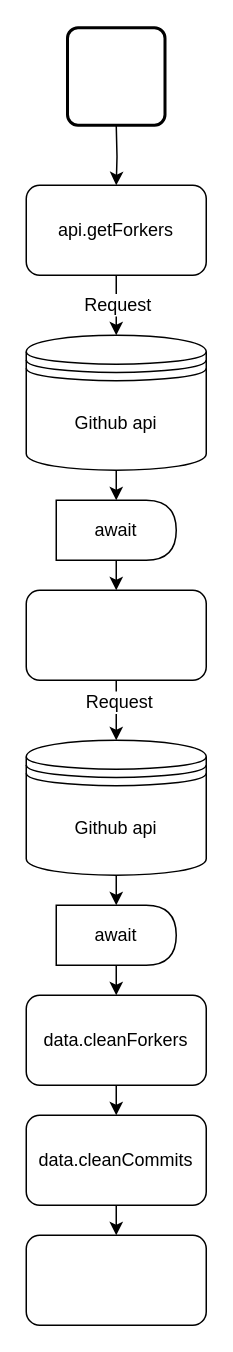
Image size: 233x1352. Some labels were removed from this diagram. The centre of each missing label's shape, as x and y in pixels:
API: (x=115, y=76)
api.getCommits: (x=115, y=634)
data.sortCommits: (x=115, y=1279)
